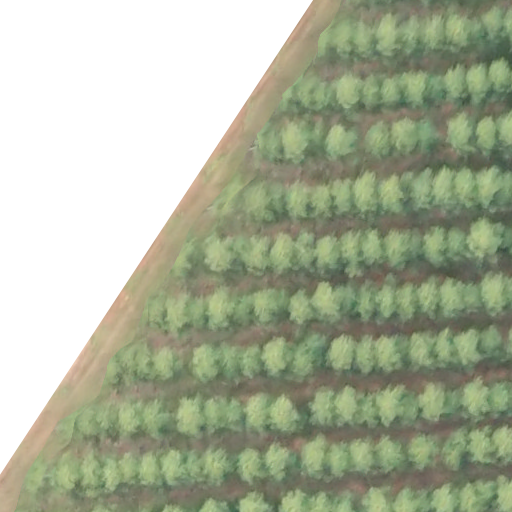eucalipto: (469, 215, 509, 260), (245, 184, 284, 224), (478, 167, 510, 209), (483, 271, 512, 317), (252, 289, 286, 328), (199, 446, 231, 487), (353, 170, 379, 220), (447, 112, 476, 156), (407, 432, 439, 471), (265, 439, 292, 485), (461, 378, 490, 420), (301, 437, 329, 480), (421, 15, 447, 61), (310, 280, 337, 324), (326, 333, 357, 371), (176, 393, 202, 438), (438, 275, 465, 318), (144, 399, 173, 439), (270, 393, 298, 434), (376, 435, 404, 476), (262, 337, 292, 375), (310, 387, 337, 429), (189, 345, 218, 384), (432, 167, 456, 214), (374, 17, 399, 62), (324, 125, 356, 160), (244, 390, 272, 430), (451, 168, 477, 211), (364, 123, 393, 161), (464, 64, 490, 106), (393, 117, 419, 159), (236, 446, 264, 485), (205, 238, 236, 273), (356, 228, 385, 265), (459, 483, 496, 512), (53, 453, 81, 491), (392, 484, 430, 512), (337, 230, 360, 276), (209, 287, 233, 331), (299, 78, 333, 109), (80, 453, 104, 496), (377, 177, 402, 218), (443, 66, 469, 105), (475, 114, 499, 156), (292, 231, 316, 273), (423, 226, 446, 269), (378, 384, 401, 427), (286, 344, 312, 382), (349, 439, 375, 477), (315, 235, 340, 274), (152, 345, 179, 381), (416, 115, 438, 159), (282, 126, 308, 163), (202, 394, 226, 434), (258, 127, 283, 165), (100, 398, 120, 445), (421, 383, 447, 419), (384, 231, 406, 273), (334, 285, 360, 320), (456, 330, 482, 365), (490, 57, 512, 98), (270, 234, 292, 275), (433, 328, 455, 369), (445, 431, 468, 470), (432, 480, 460, 512), (336, 76, 362, 110), (249, 235, 270, 277), (327, 443, 350, 481), (160, 450, 183, 487), (120, 401, 145, 435), (401, 18, 421, 60), (491, 425, 512, 465), (414, 169, 433, 213), (140, 452, 162, 490), (461, 15, 484, 51), (419, 278, 441, 315), (236, 490, 273, 512), (174, 293, 194, 333), (220, 343, 240, 383), (332, 180, 353, 218), (469, 427, 490, 465), (358, 485, 387, 512), (335, 21, 355, 60), (398, 385, 418, 424), (337, 385, 357, 424), (398, 282, 417, 323), (411, 331, 432, 368), (224, 395, 244, 433), (283, 184, 304, 220), (277, 488, 308, 512), (445, 227, 466, 262), (243, 344, 262, 382), (402, 227, 422, 263), (359, 282, 377, 322), (290, 286, 310, 322), (403, 74, 424, 108), (482, 326, 503, 360), (377, 339, 399, 371), (305, 330, 324, 367), (356, 22, 374, 61), (357, 336, 375, 375), (235, 293, 255, 328), (357, 392, 377, 427), (118, 451, 139, 484), (447, 16, 465, 54), (103, 455, 120, 495), (493, 380, 512, 415), (485, 7, 502, 46), (380, 79, 401, 110), (362, 74, 380, 110), (426, 76, 445, 110), (378, 284, 396, 319), (495, 475, 512, 512), (314, 185, 332, 219), (465, 280, 482, 313), (498, 110, 512, 147), (310, 490, 332, 512), (193, 297, 207, 330), (335, 492, 356, 512)
